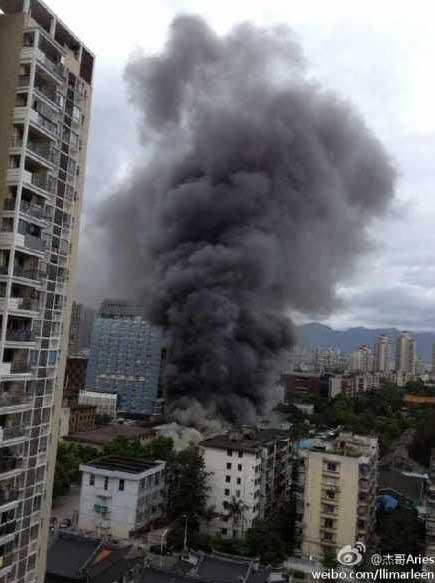smoke: (112, 15, 384, 404)
